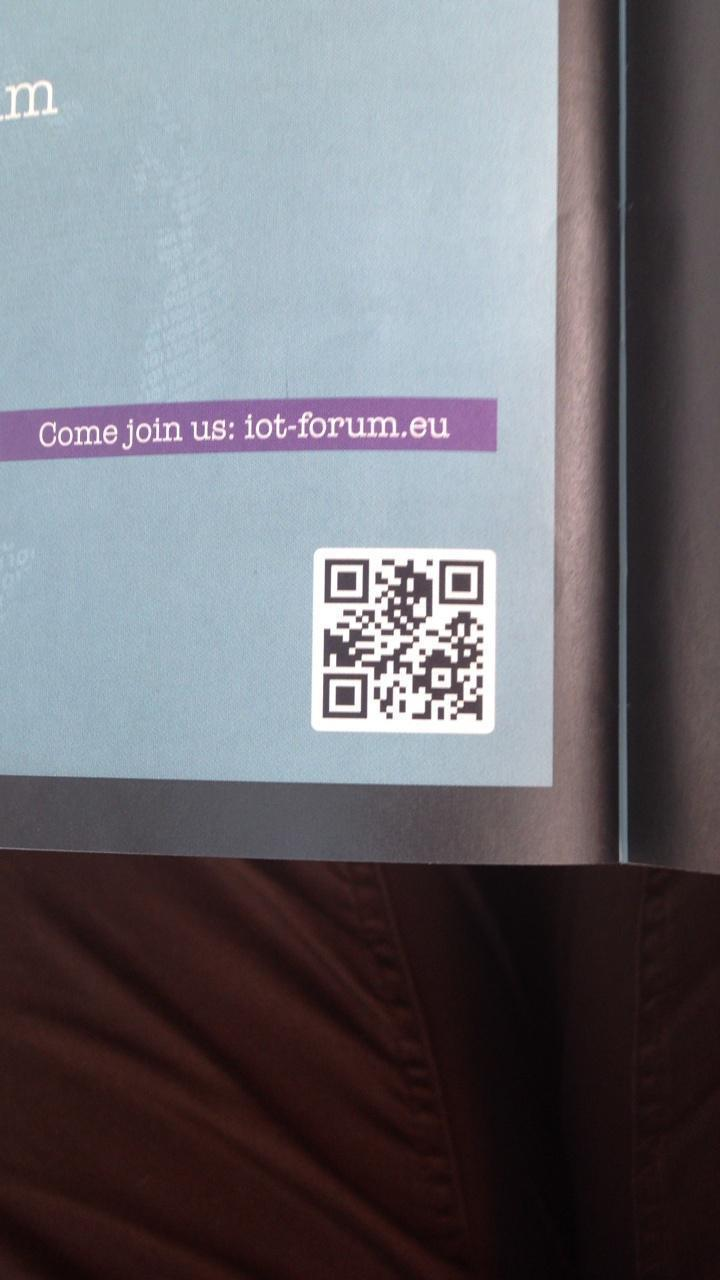qr_code: (322, 559, 484, 722)
